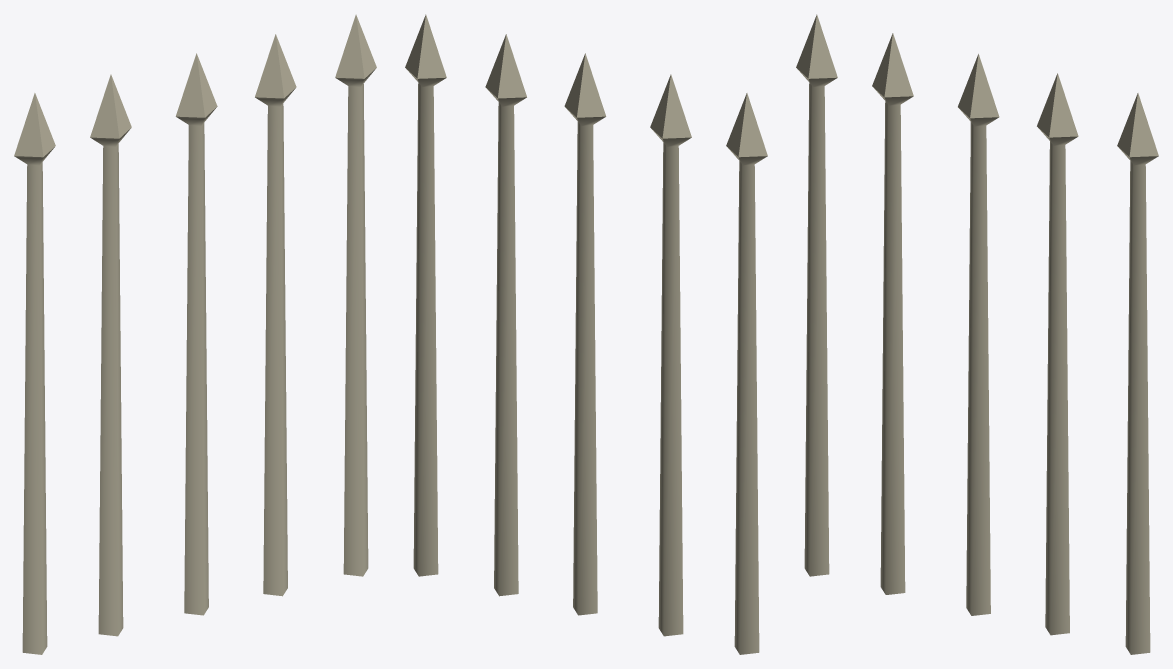
The model's file is DoorBlock.fbx.
The picture shows the model from 3 angles, left to right: view 1: azimuth 30°, elevation 25°; view 2: azimuth 150°, elevation 25°; view 3: azimuth 330°, elevation 25°; orthographic projection.
Parts seen in each view (by area): view 1: DoorBlock; view 2: DoorBlock; view 3: DoorBlock.
Boxes of the visible parts, x1,y1,x2,y2 form: DoorBlock: (14, 14, 376, 654); DoorBlock: (405, 14, 767, 654); DoorBlock: (796, 14, 1158, 654).
Bounding box in the file's own units: 0.9643 × 1.42 × 0.0787.
